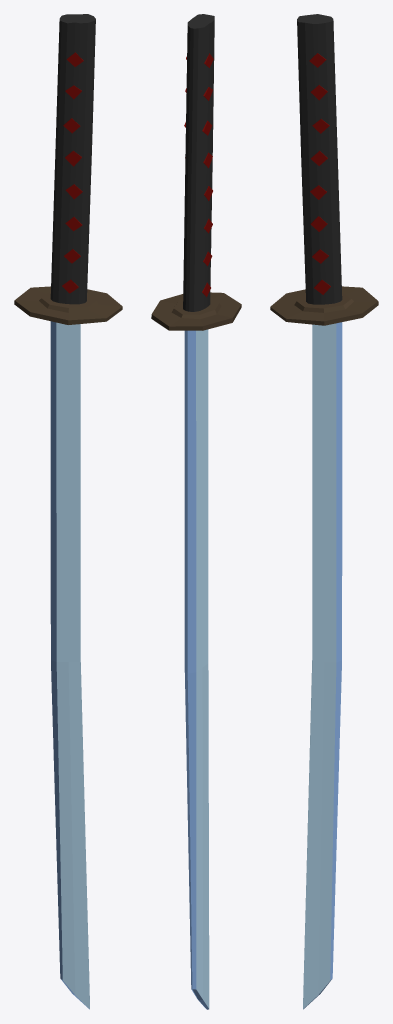
File: katana1.glb
3 views of the same model, side by side, from view 1: azimuth 90°, elevation 25°; view 2: azimuth 150°, elevation 25°; view 3: azimuth 270°, elevation 25° (orthographic).
Parts seen in each view (by area): view 1: Cube; view 2: Cube; view 3: Cube.
Boxes of the visible parts, x1=… form: Cube: x1=14, y1=14, x2=122, y2=1009; Cube: x1=151, y1=14, x2=241, y2=1009; Cube: x1=270, y1=14, x2=378, y2=1009.
Bounding box in the file's own units: 0.2653 × 3.45 × 0.3426.
